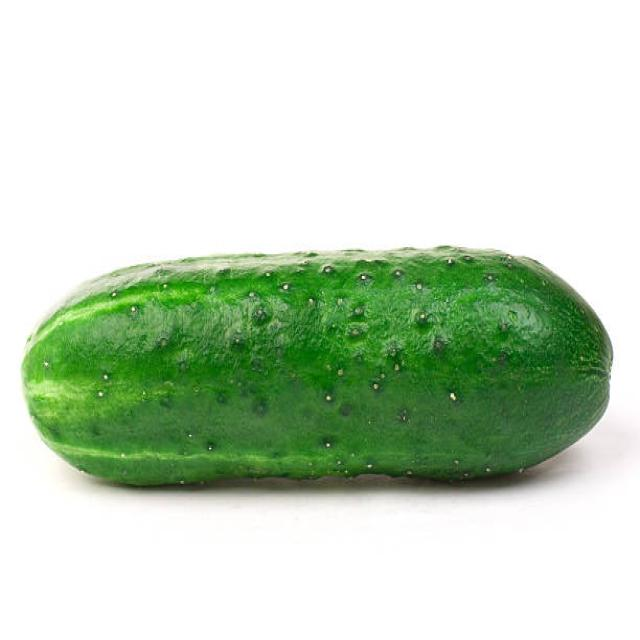cucumber: (21, 240, 612, 492)
